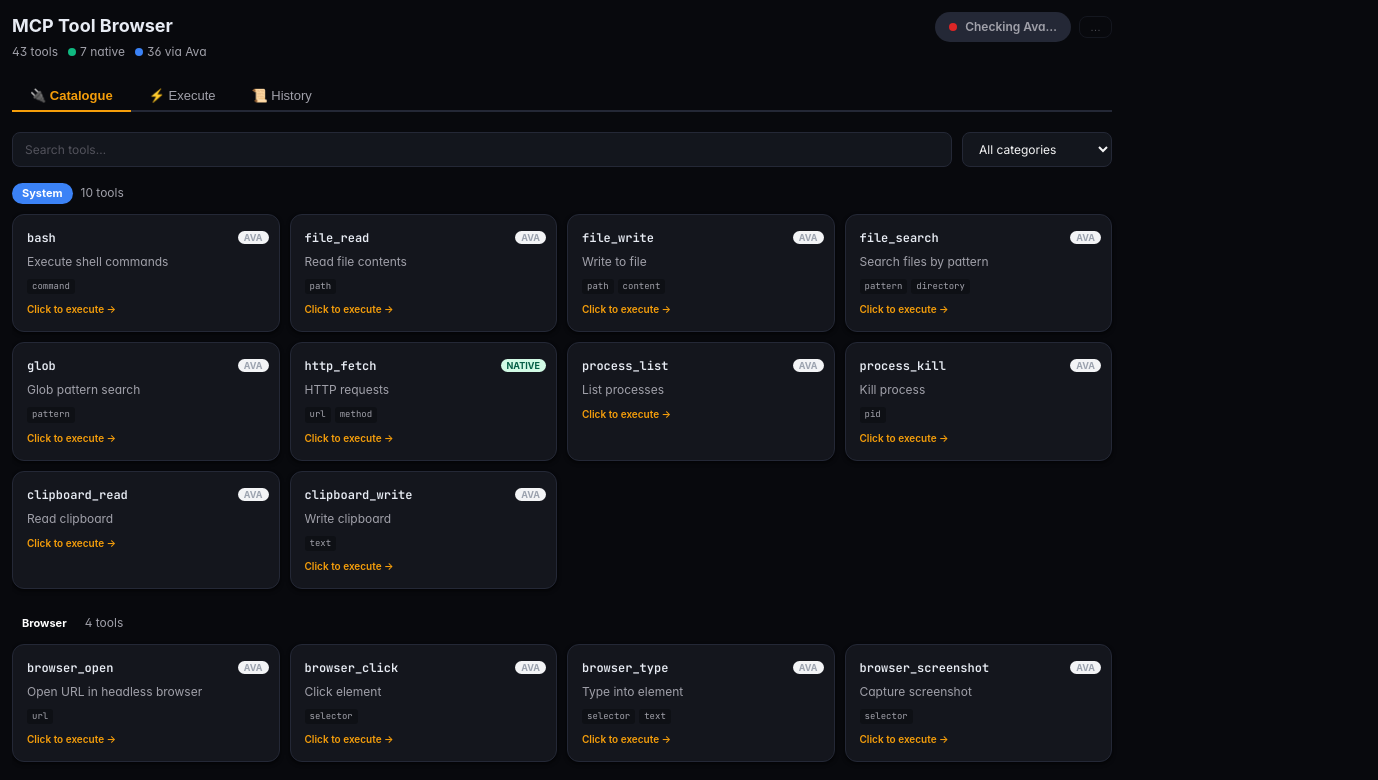
Test: MCPToolsPage › shows empty-state when search matches nothing
The width and height of the screenshot is (1378, 780).
Type "zzz-no-such-tool-zzz" into the search field with placeholder "Search tools…".
click(482, 150); type("zzz-no-such-tool-zzz")  # box [12,132,952,167]
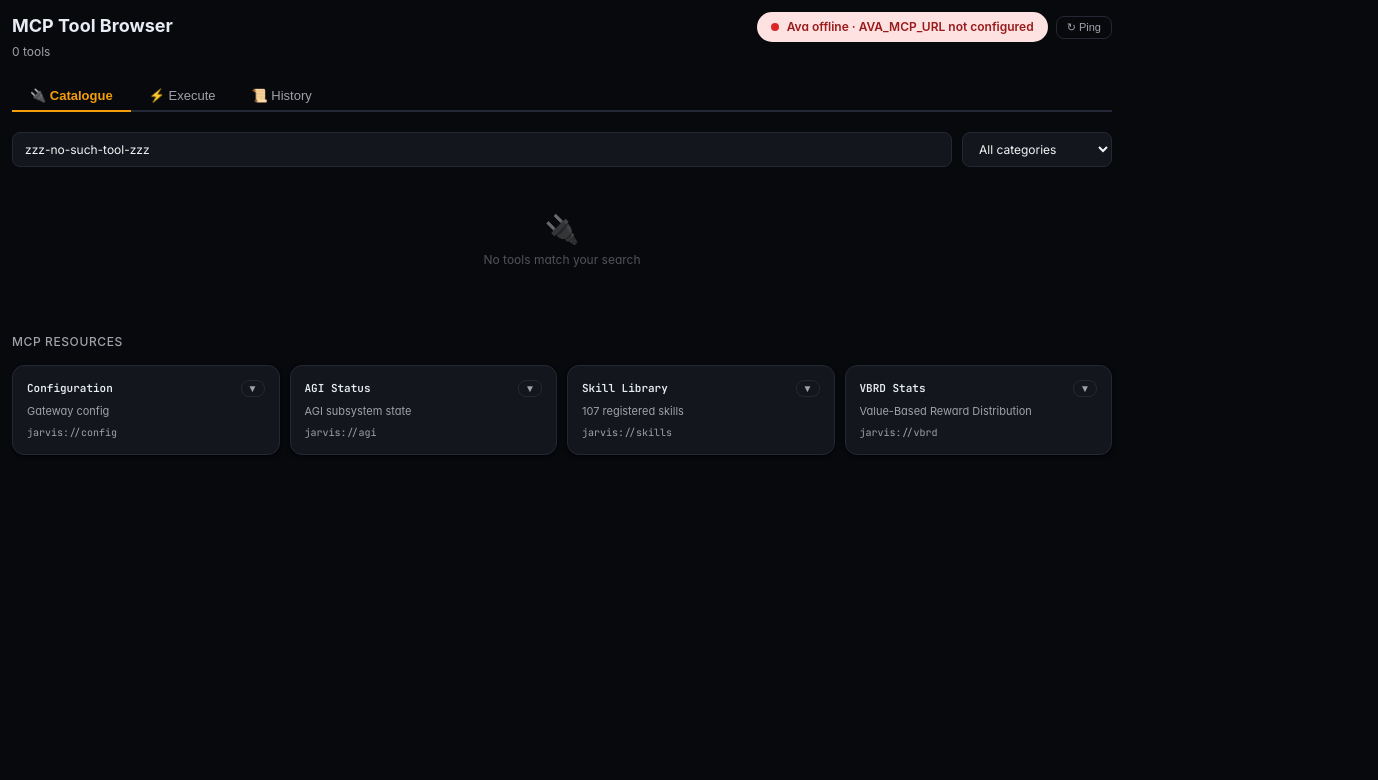
Check: the text "No tools match your search" is shown, box [484,251,641,269]
